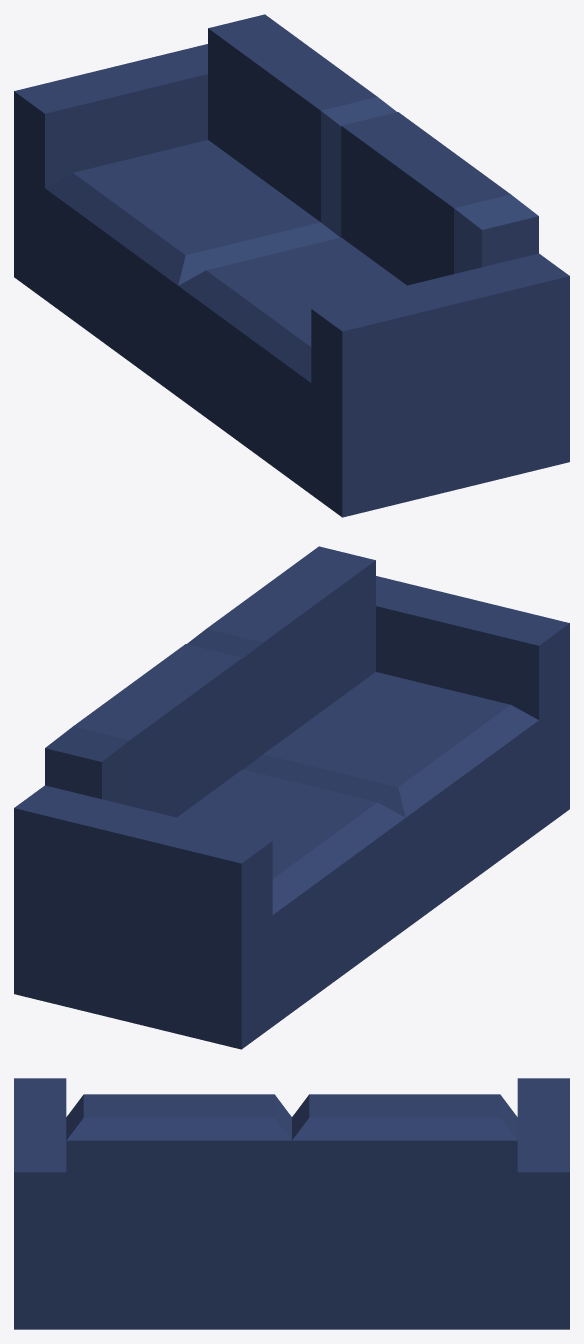
Rendered from sofa.fbx.
3 views of the same model, one above another, from view 1: azimuth 30°, elevation 25°; view 2: azimuth 150°, elevation 25°; view 3: azimuth 270°, elevation 25° (orthographic). The views are drawn at different scales.
Visible parts, largest first — view 1: Cube; view 2: Cube; view 3: Cube.
Part boxes in pixels (box(x1,y1,x2,y2)): Cube: box(14, 14, 569, 517); Cube: box(14, 546, 569, 1049); Cube: box(14, 1078, 569, 1329).
Bounding box in the file's own units: 0.64 × 0.65 × 1.6.
